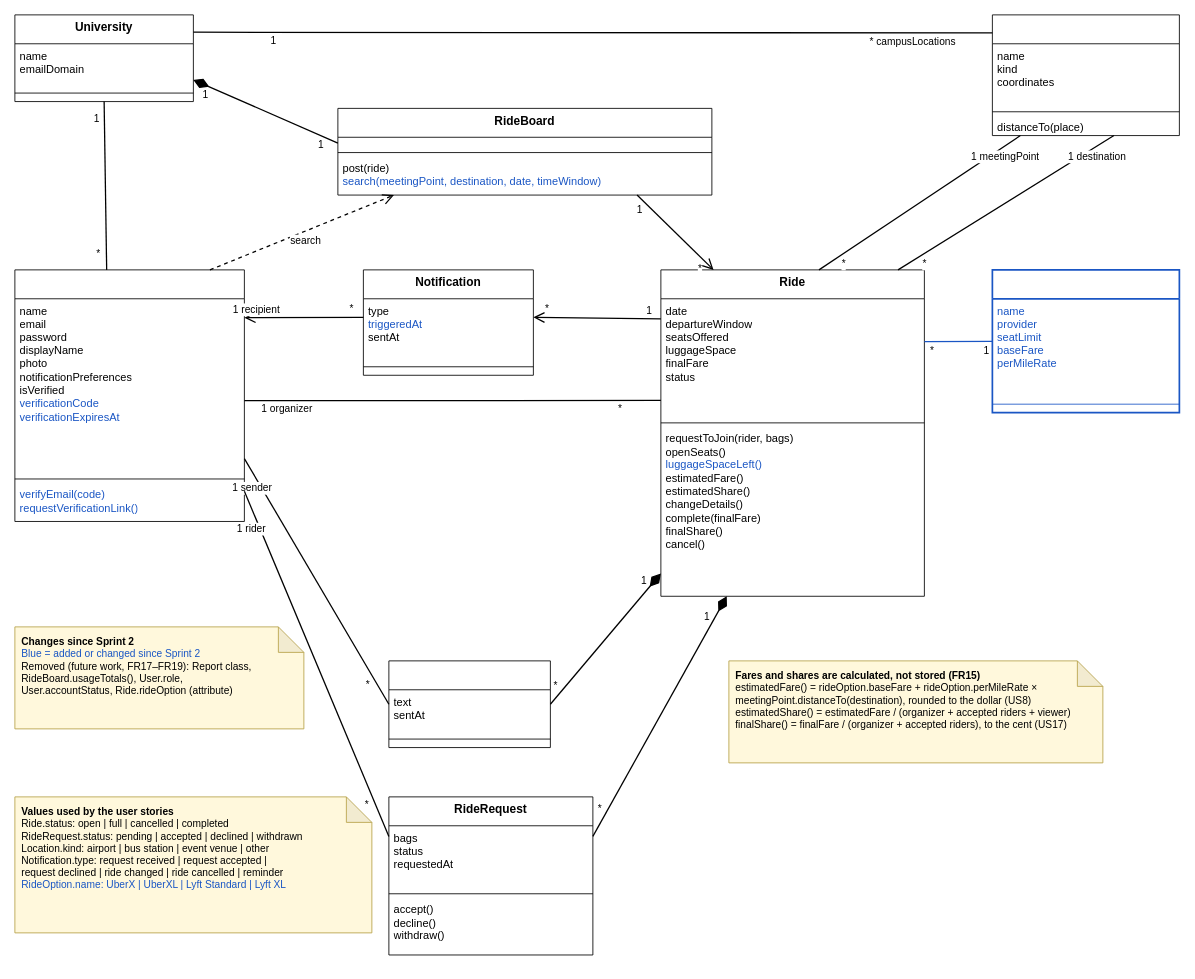
Image size: 1195x979. Some labels were removed from this diagram. The box of each missing label's shape, as (x1, y1, x2, y2) in pixels:
Location: (992, 14, 1179, 136)
Message: (388, 660, 550, 748)
RideOption: (991, 269, 1180, 413)
User: (14, 269, 244, 521)
